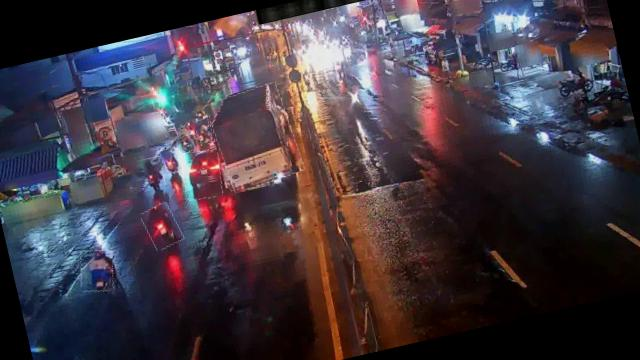Bike: (74, 246, 119, 296), (141, 201, 184, 252), (553, 64, 596, 100), (137, 156, 166, 192), (344, 84, 366, 114), (194, 118, 215, 148), (162, 147, 182, 175), (177, 132, 198, 154), (332, 57, 348, 78), (300, 67, 314, 90)
Car: (178, 146, 225, 202)
Truck: (207, 82, 305, 193)
